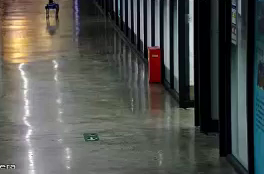robot dog: (44, 1, 60, 24)
